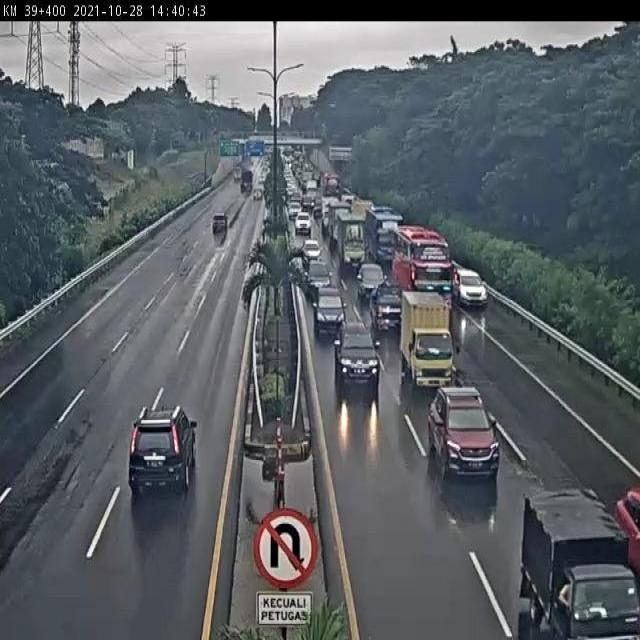bus-l-: (394, 225, 452, 308), (366, 203, 400, 257)
car: (427, 386, 498, 474), (127, 406, 198, 494), (334, 320, 381, 388), (313, 288, 346, 333), (371, 280, 403, 323), (455, 265, 487, 307), (356, 260, 387, 297), (306, 257, 334, 295), (211, 215, 228, 232)
truck-s-: (520, 489, 640, 640), (400, 290, 457, 386)
